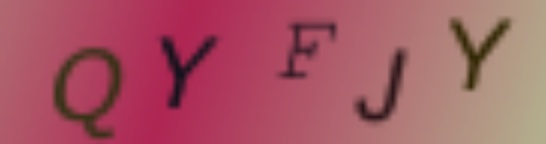F: (280, 17, 338, 82)
J: (349, 44, 413, 126)
Q: (53, 43, 128, 141)
Y: (445, 13, 516, 93), (159, 32, 220, 114)
